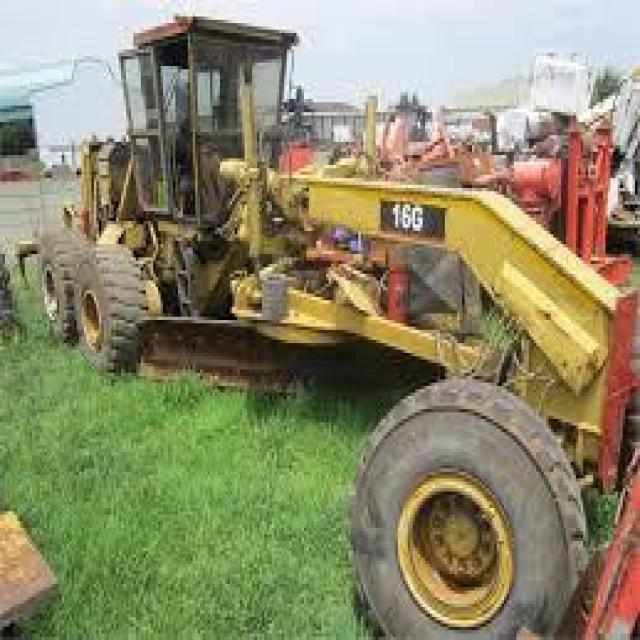buldozerpayloadergrader: (27, 3, 638, 637)
